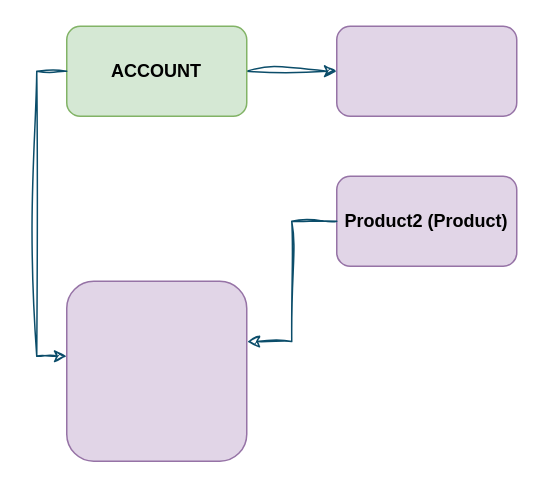
The diagram is 543 pixels wide and 488 high, and some of its shapes have lost their labels. The centre of each missing label's shape, as x and y in pixels:
ASSET Product2Id AccountId * Asset Name Status Install Date: point (156, 370)
CONTACT: point (426, 70)
